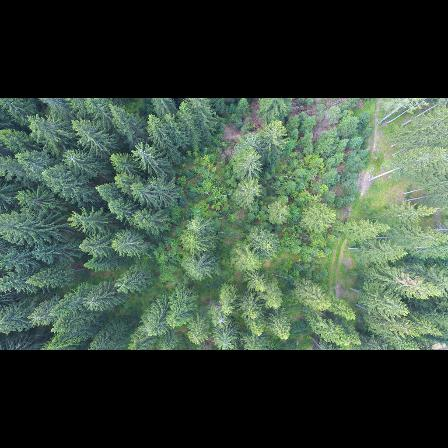Sick: (129, 141, 157, 161), (61, 148, 82, 166)
